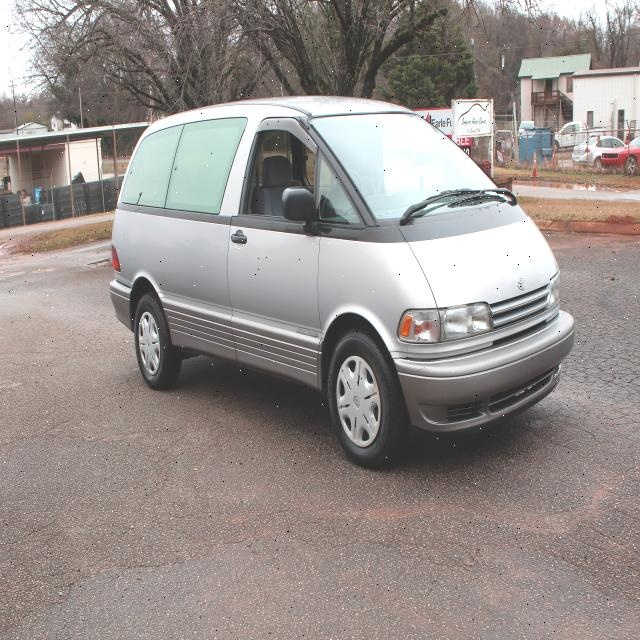Van: (101, 96, 597, 470)
